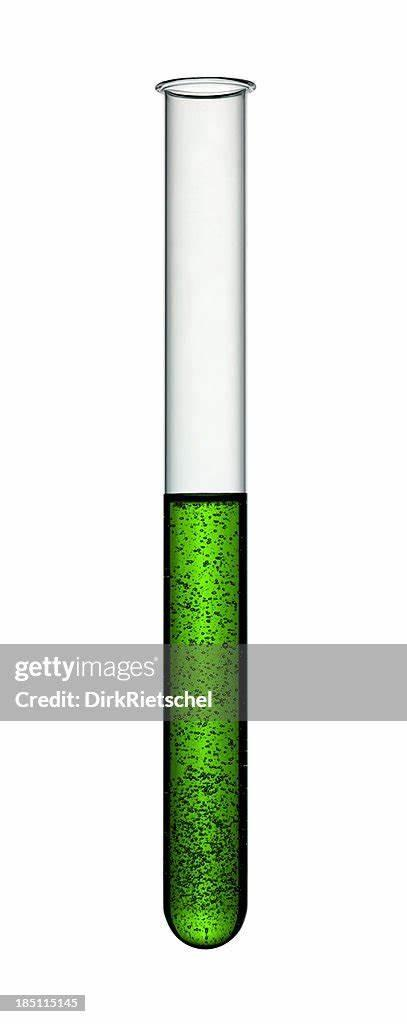Test tube: (133, 79, 253, 956)
